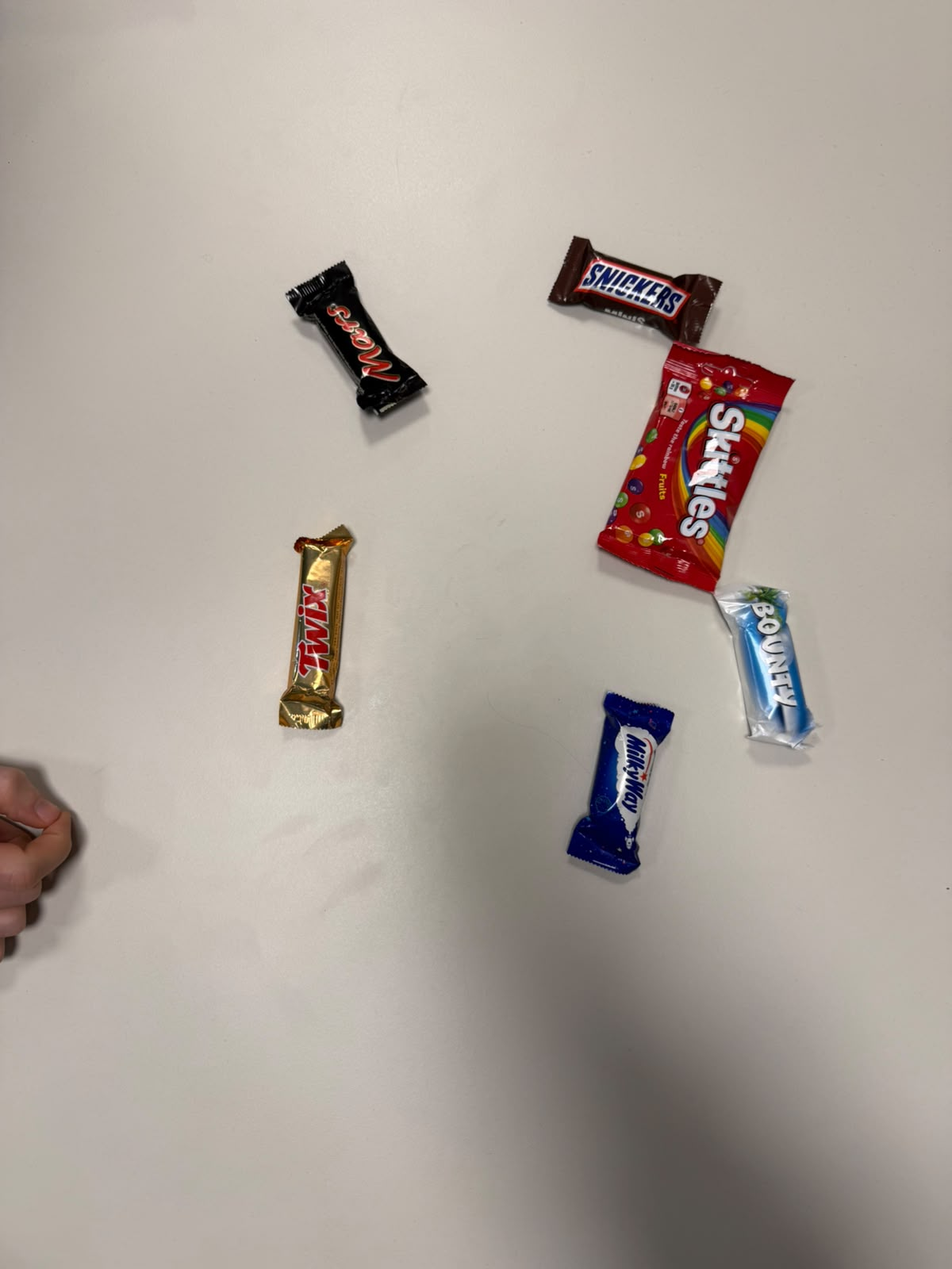Bounty: (701, 573, 788, 780)
Mars: (266, 291, 360, 476)
MilkyWay: (601, 679, 688, 881)
Skittles: (679, 317, 811, 583)
Snickers: (549, 228, 745, 314)
Twix: (272, 517, 359, 746)
